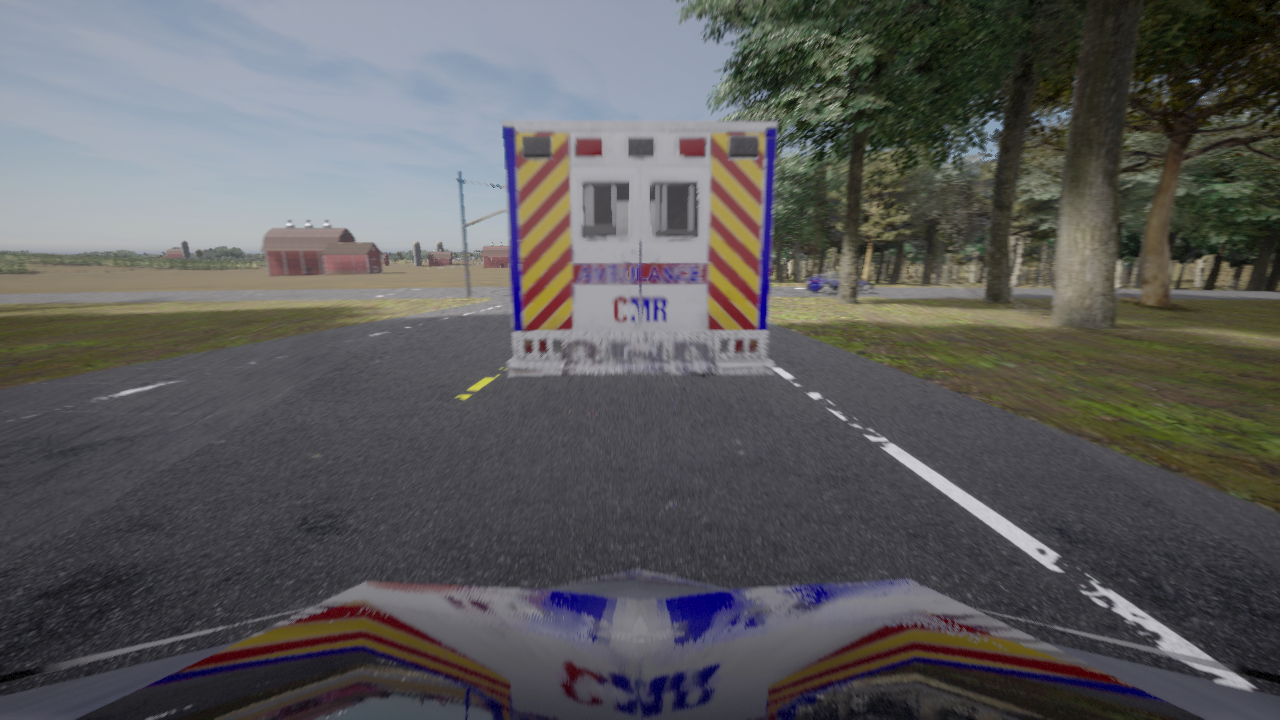cyclist: (0, 569, 1279, 719), (502, 121, 776, 376), (805, 273, 873, 293)
